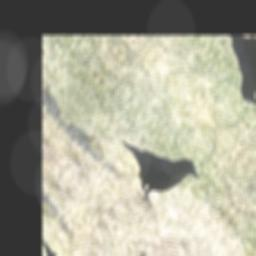Crow: (109, 111, 206, 223)
